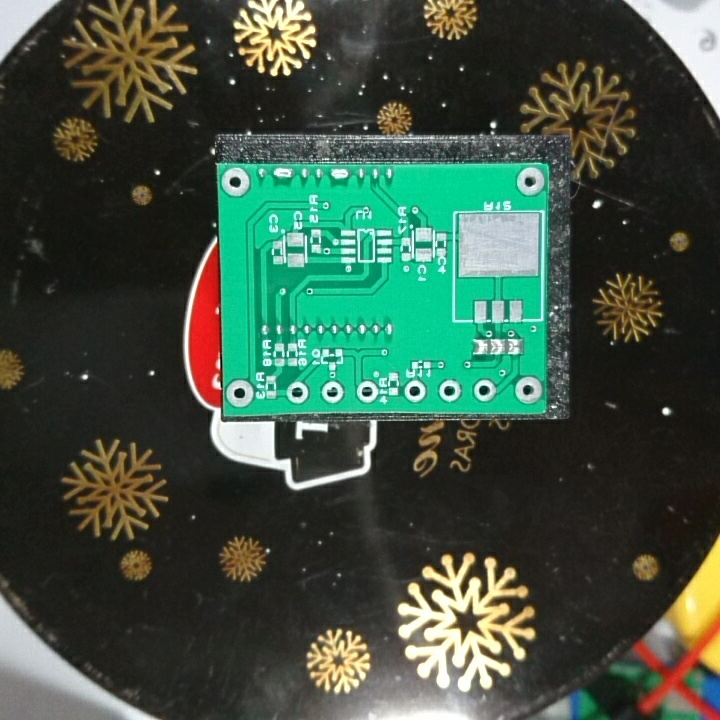F: (219, 164, 253, 198), (513, 164, 546, 197), (225, 378, 256, 411), (514, 374, 544, 406), (318, 378, 346, 405), (436, 377, 462, 406), (471, 379, 499, 405), (402, 378, 427, 406), (285, 378, 309, 406), (355, 380, 379, 405)
P: (328, 166, 351, 184), (271, 165, 294, 182)
